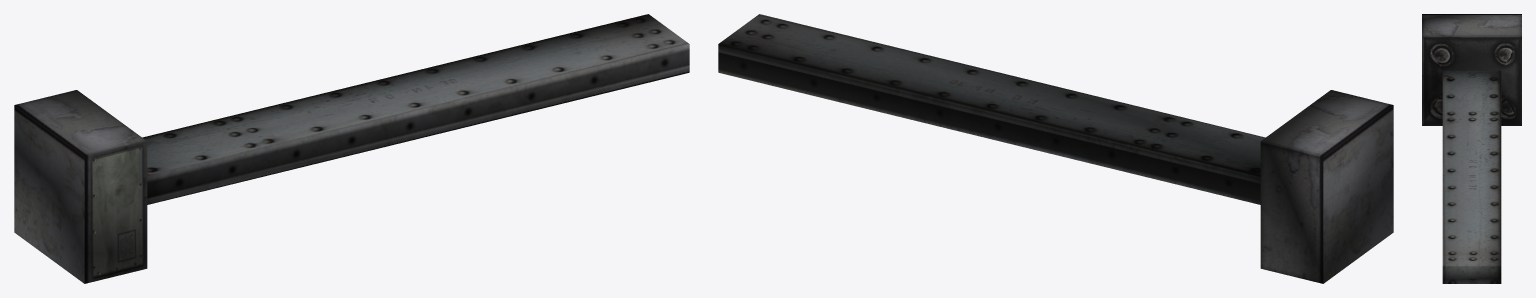
The model's file is Holder02.fbx.
3 views of the same model, side by side, from view 1: azimuth 30°, elevation 25°; view 2: azimuth 150°, elevation 25°; view 3: azimuth 270°, elevation 25° (orthographic). The views are drawn at different scales.
Parts seen in each view (by area): view 1: Holder02; view 2: Holder02; view 3: Holder02.
Boxes of the visible parts, <box> form: Holder02: <box>14,14,689,283</box>; Holder02: <box>718,14,1393,283</box>; Holder02: <box>1422,14,1521,283</box>.
Size of the model in its own units: 3.09 by 0.608 by 0.608.
